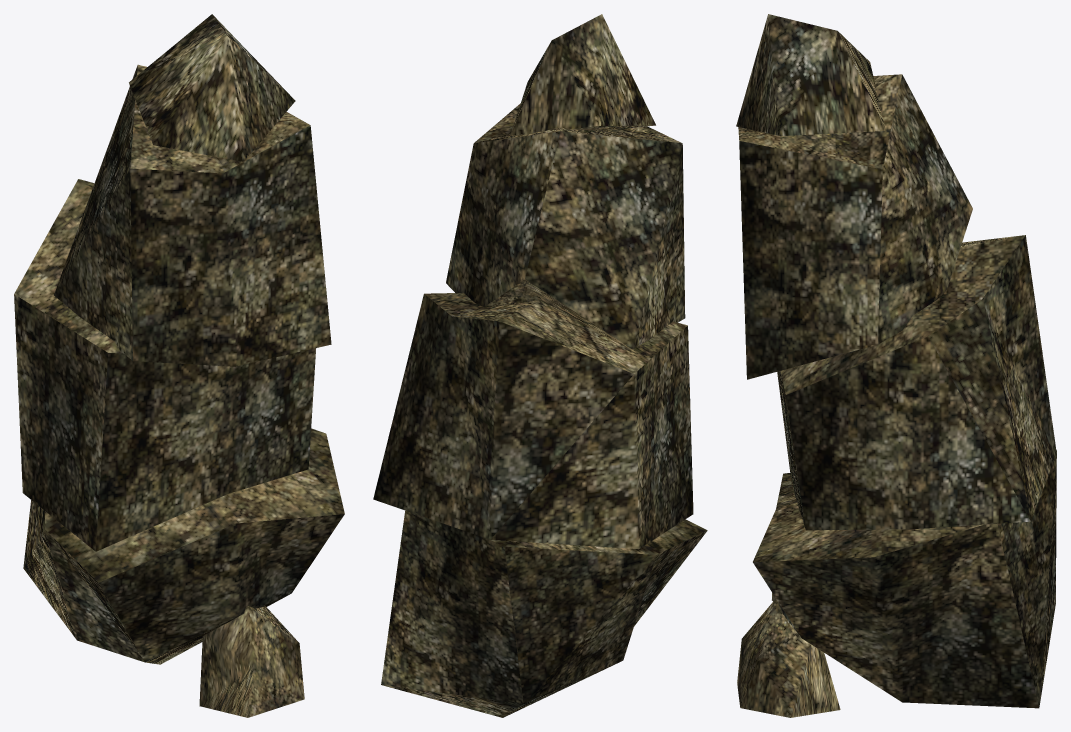
File: bolder_rolling_small_base.glb
3 views of the same model, side by side, from view 1: azimuth 30°, elevation 25°; view 2: azimuth 150°, elevation 25°; view 3: azimuth 270°, elevation 25° (orthographic). The views are drawn at different scales.
Parts seen in each view (by area): view 1: MeshRoot; view 2: MeshRoot; view 3: MeshRoot.
Part boxes in pixels (x1,y1,x2,y2): MeshRoot: (14,14,344,717); MeshRoot: (373,14,707,717); MeshRoot: (736,14,1056,717).
Size of the model in its own units: 4.78 by 11.34 by 4.84.
1 material, 1 textured.
